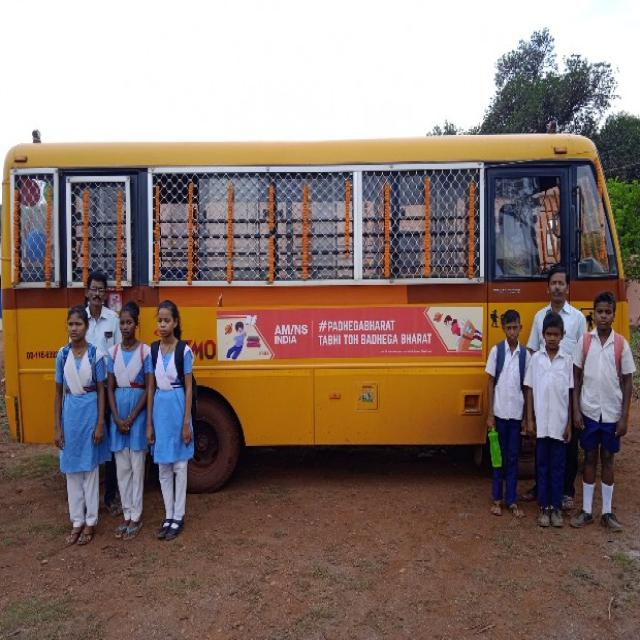bus: (2, 133, 628, 492)
